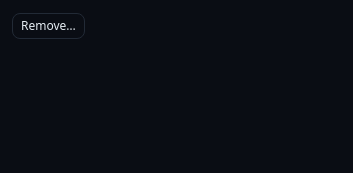
removing a repository and its history (INS-09) › stays disabled until the exact org/name is typed, then sends it
The image size is (353, 173).
Later steps or results of the test are not shown.
Click the button with test id "sync-purge-7". click: (48, 26)
box: [12,13,85,39]
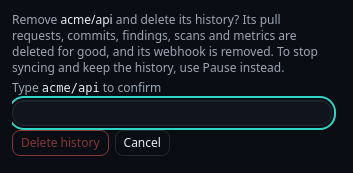
Result: the element with test id "sync-purge-confirm-7" shows "use Pause instead" at [12,11,318,76]
Type "acme/ap" into the field with test id "sync-purge-input-7". click: (172, 113)
box: [12,100,332,126]
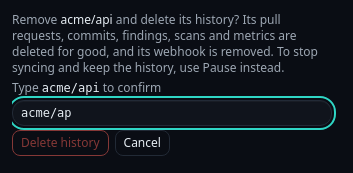
Result: the button with test id "sync-purge-do-7" is disabled at [12,130,108,156]
Type "i" into the field with test id "sync-purge-input-7". click: (172, 113)
box: [12,100,332,126]
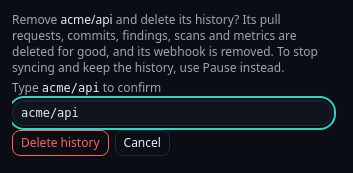
Result: the button with test id "sync-purge-do-7" is enabled at [12,130,108,156]
